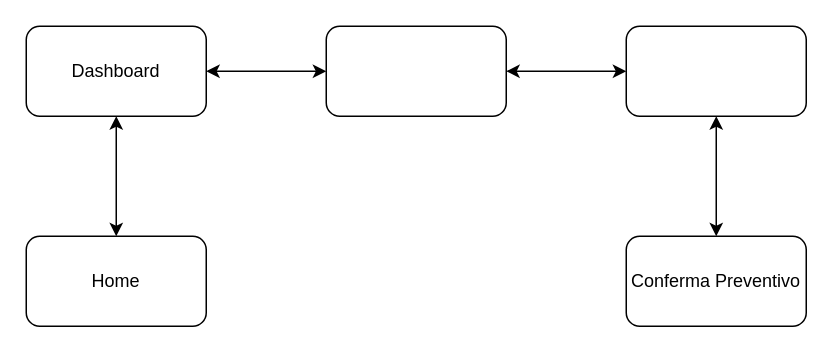
The diagram is 833 pixels wide and 353 high, and some of its shapes have lost their labels. The shapes that lost their labels are listed below. From the top down, each one's centre as x and y in pixels, then its label:
At pixel 415 70: "Pagina Gestione Ordini".
At pixel 715 70: "Pagina Preventivo".
